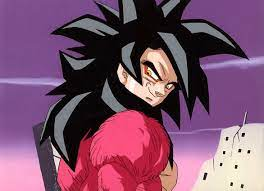Songoku: (114, 29, 191, 114)
